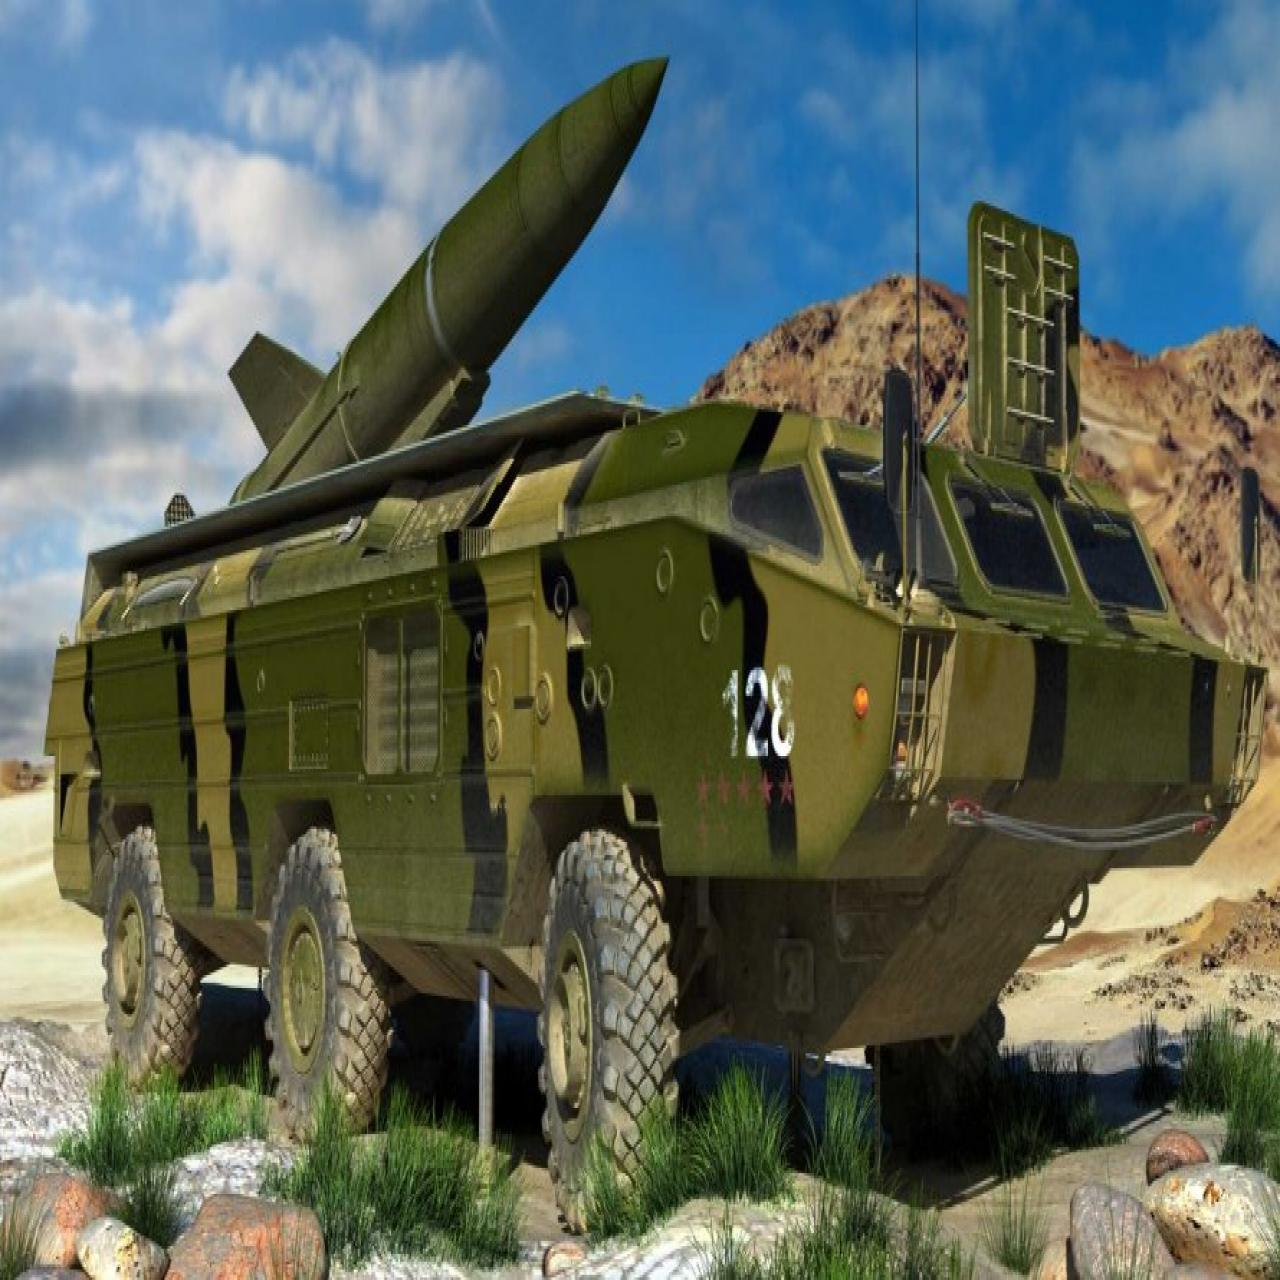MIL_Veh: (48, 50, 1262, 1220)
